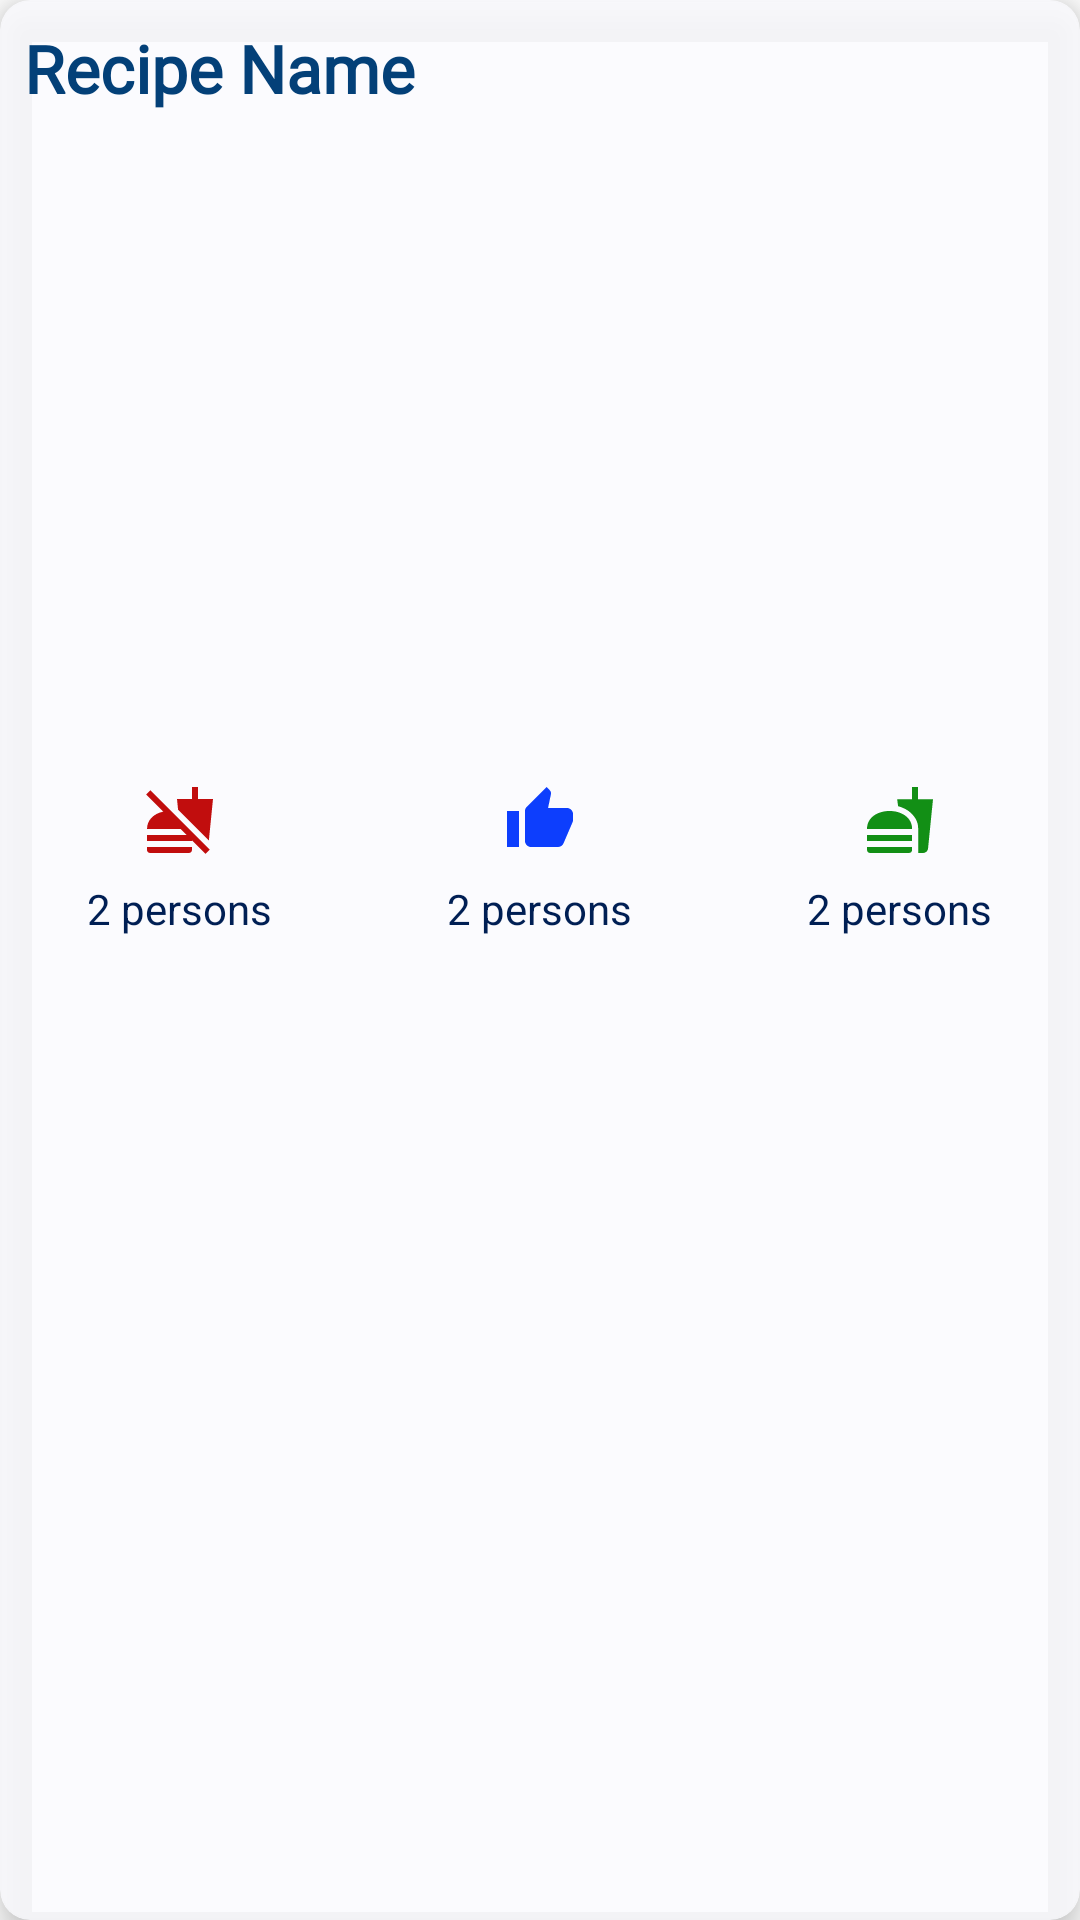

Named icons in this screenshot (1080w x 1920h) and their centers, point (x, y):
fastfood: point (900, 820)
no food: point (179, 820)
thumb up: point (540, 817)
